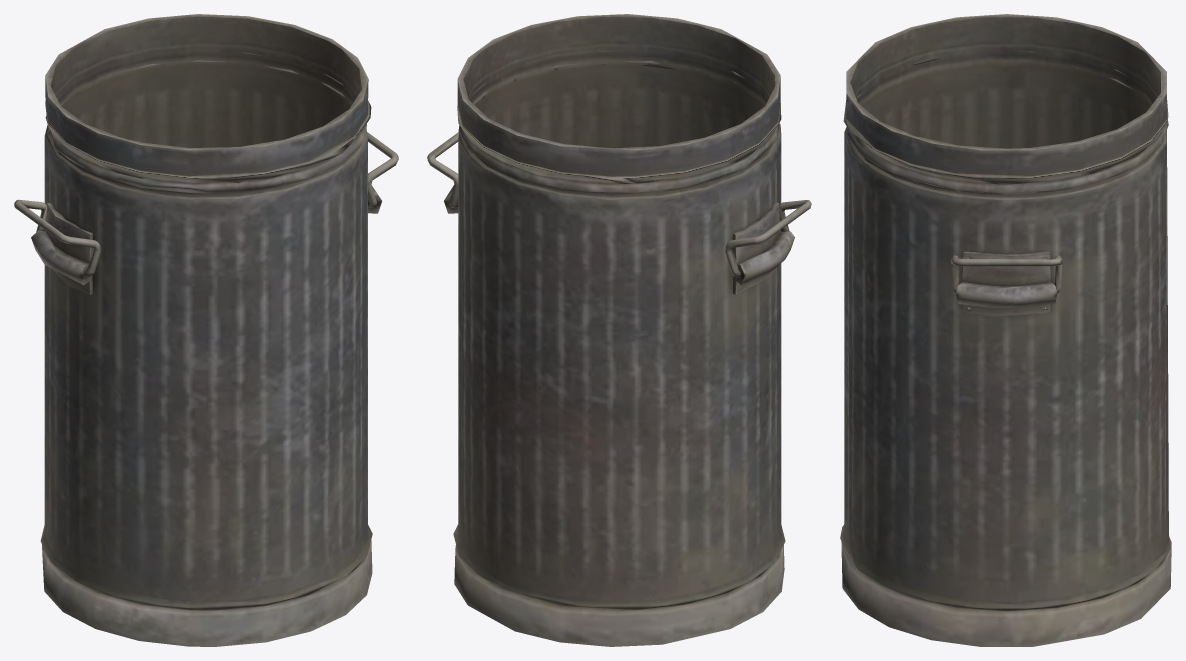
File: metal_trash_can.glb
The picture shows the model from 3 angles, left to right: view 1: azimuth 30°, elevation 25°; view 2: azimuth 150°, elevation 25°; view 3: azimuth 270°, elevation 25°; orthographic projection.
Visible parts, largest first — view 1: metal_trash_can_handle_left; view 2: metal_trash_can_handle_left; view 3: metal_trash_can_handle_left.
Boxes of the visible parts, bbox=[...] form: metal_trash_can_handle_left: bbox=[14, 14, 398, 646]; metal_trash_can_handle_left: bbox=[427, 14, 811, 646]; metal_trash_can_handle_left: bbox=[840, 14, 1171, 646].
Size of the model in its own units: 0.6495 by 0.9062 by 0.5502.
1 material, 1 textured.
